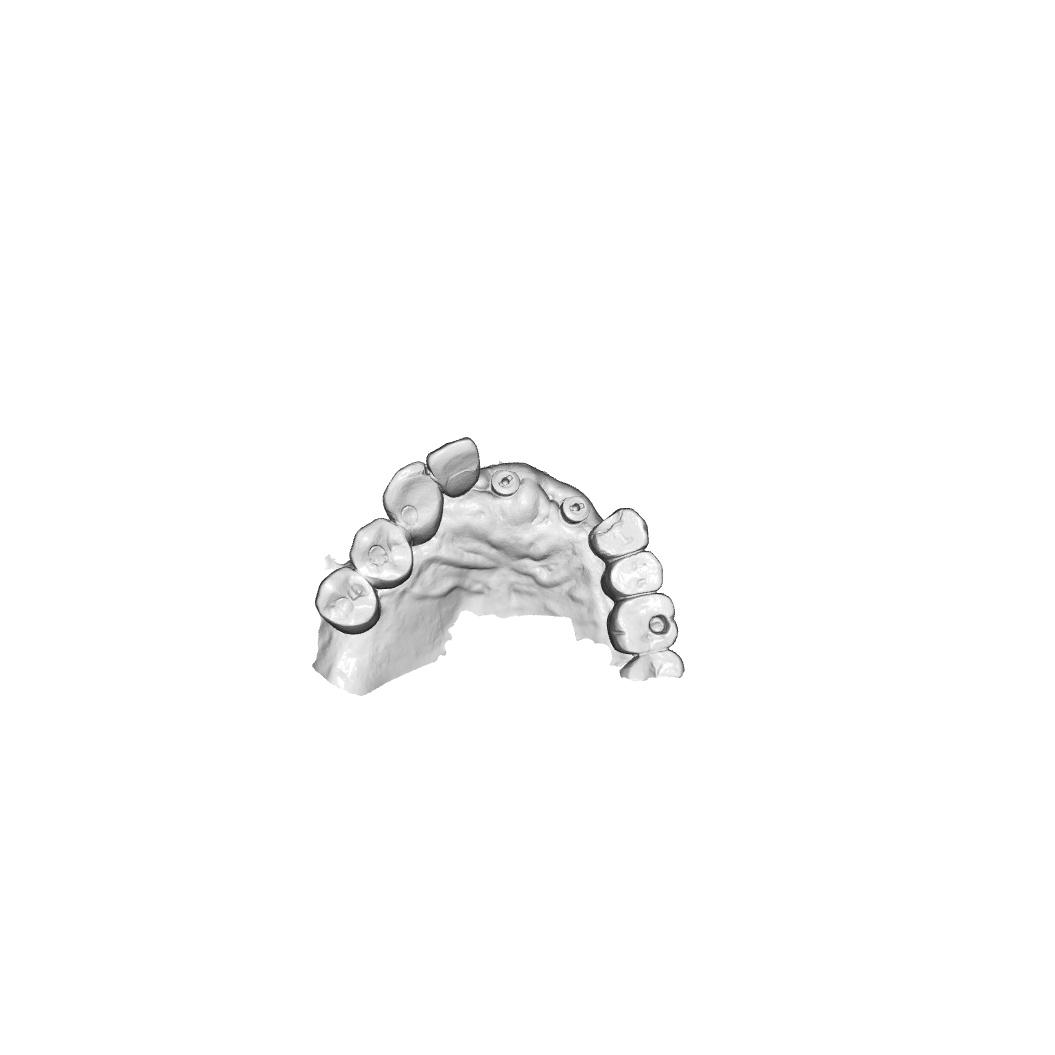canine: (380, 459, 446, 546), (522, 471, 558, 512)
implant_minus: (489, 467, 522, 498), (557, 494, 590, 525)
incisor: (425, 435, 481, 499)
molar: (604, 591, 680, 656), (620, 649, 685, 678)
premolar: (347, 517, 416, 591), (313, 565, 382, 635), (587, 506, 650, 563), (600, 549, 664, 601)
